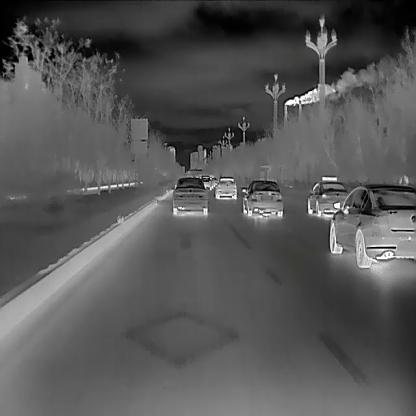car: (328, 184, 416, 266), (307, 175, 348, 216), (240, 179, 283, 217), (172, 177, 208, 215), (214, 174, 235, 200)
